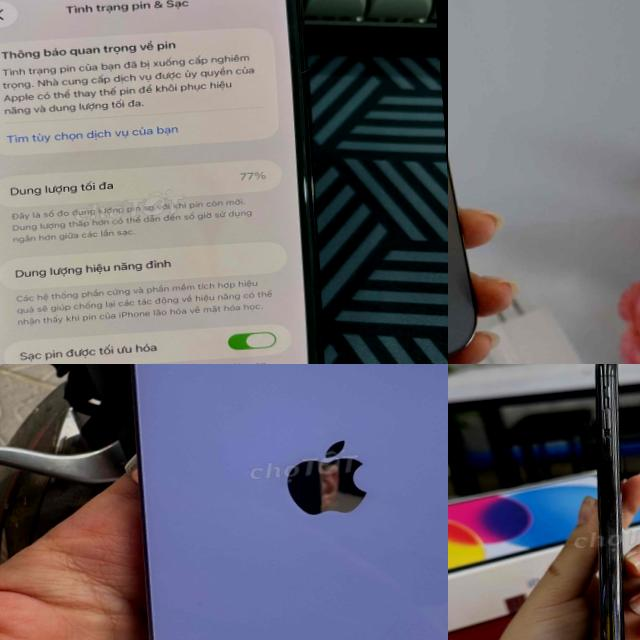gen_11: (0, 0, 339, 364)
gen_12_13: (106, 364, 448, 640)
gen_x_xs: (553, 364, 640, 640)
